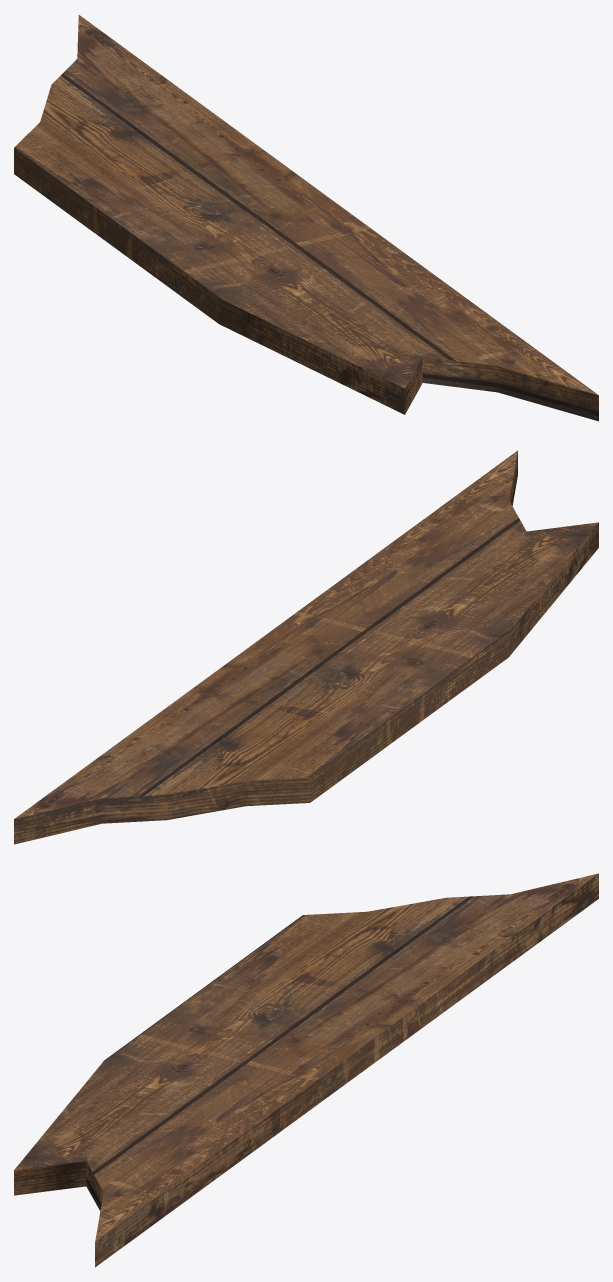
File: plank_02.fbx
The picture shows the model from 3 angles, top to bottom: view 1: azimuth 30°, elevation 25°; view 2: azimuth 150°, elevation 25°; view 3: azimuth 330°, elevation 25°; orthographic projection. The views are drawn at different scales.
Visible parts, largest first — view 1: plank_02; view 2: plank_02; view 3: plank_02.
Boxes of the visible parts, x1,y1,x2,y2 form: plank_02: (14,15,598,421); plank_02: (14,450,598,844); plank_02: (14,873,598,1267).
Size of the model in its own units: 7.41 by 1 by 36.04.
1 material, 1 textured.
